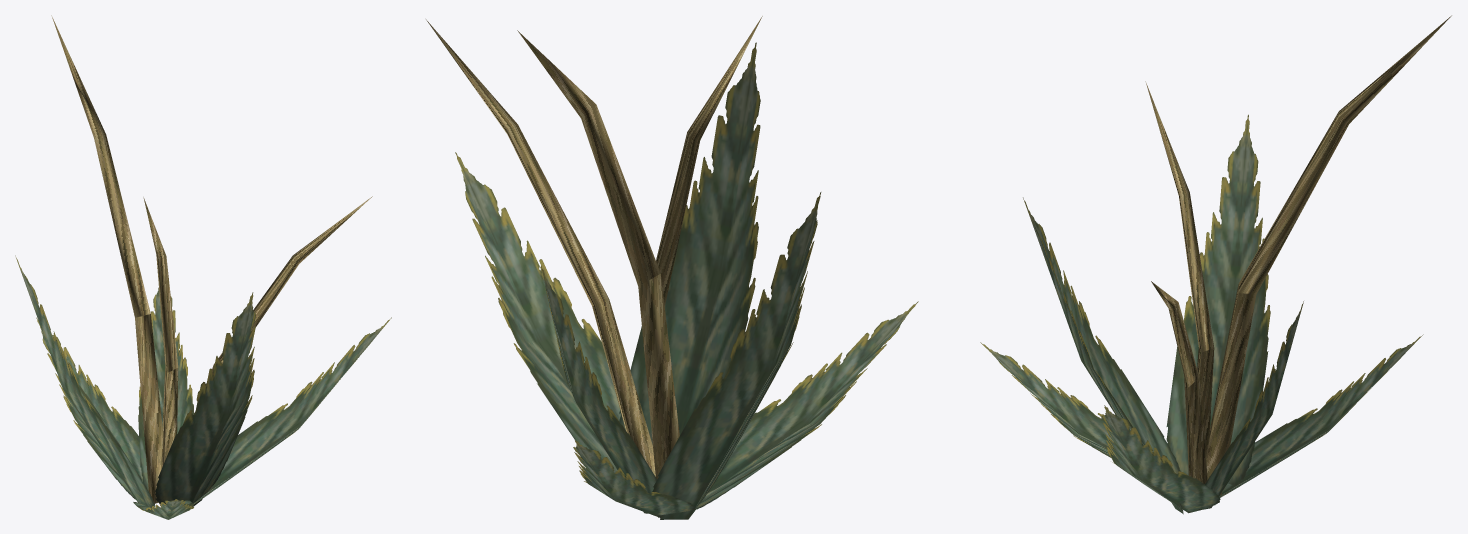
Rendered from INST_OH_SPIKE_SHRUB_01.fbx.
3 renders of one model, left to right at view 1: azimuth 30°, elevation 25°; view 2: azimuth 150°, elevation 25°; view 3: azimuth 270°, elevation 25°, orthographic. The views are drawn at different scales.
Parts seen in each view (by area): view 1: INST_OH_SPIKE_SHRUB_01; view 2: INST_OH_SPIKE_SHRUB_01; view 3: INST_OH_SPIKE_SHRUB_01.
Boxes of the visible parts, <box> form: INST_OH_SPIKE_SHRUB_01: <box>15,15,391,519</box>; INST_OH_SPIKE_SHRUB_01: <box>426,16,918,519</box>; INST_OH_SPIKE_SHRUB_01: <box>980,15,1451,514</box>.
Bounding box in the file's own units: 9183 × 11374 × 10259.
2 materials, 2 textured.
